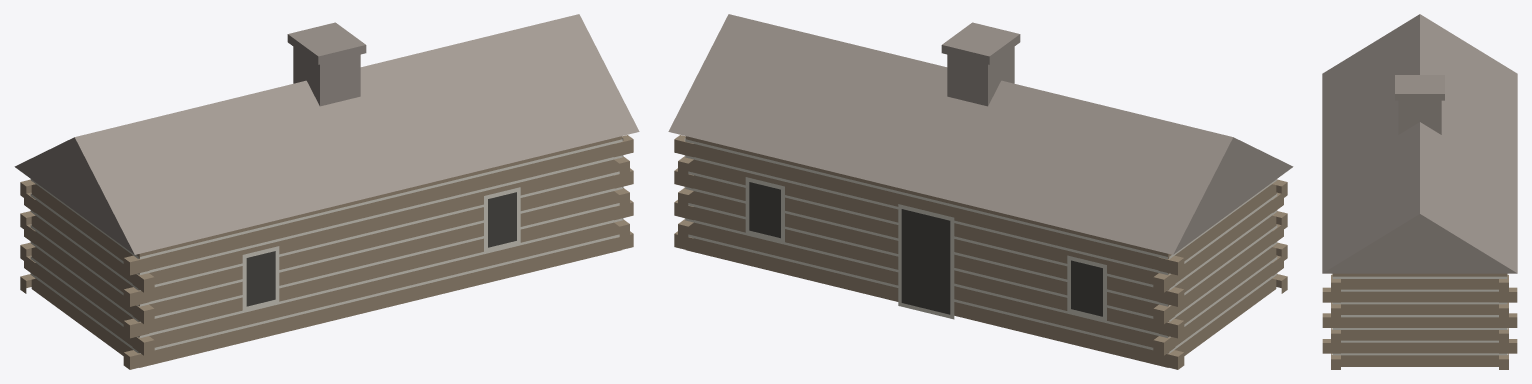
File: fort_dearborn_guard_house__log_1816.glb
3 renders of one model, left to right at view 1: azimuth 30°, elevation 25°; view 2: azimuth 150°, elevation 25°; view 3: azimuth 270°, elevation 25°, orthographic. The views are drawn at different scales.
Parts seen in each view (by area): view 1: fort_dearborn_guard_house__log_1816; view 2: fort_dearborn_guard_house__log_1816; view 3: fort_dearborn_guard_house__log_1816.
Boxes of the visible parts, <box> form: fort_dearborn_guard_house__log_1816: <box>14,14,639,369</box>; fort_dearborn_guard_house__log_1816: <box>668,14,1293,369</box>; fort_dearborn_guard_house__log_1816: <box>1322,14,1517,369</box>.
Bounding box in the file's own units: 11.41 × 5.04 × 4.72.
